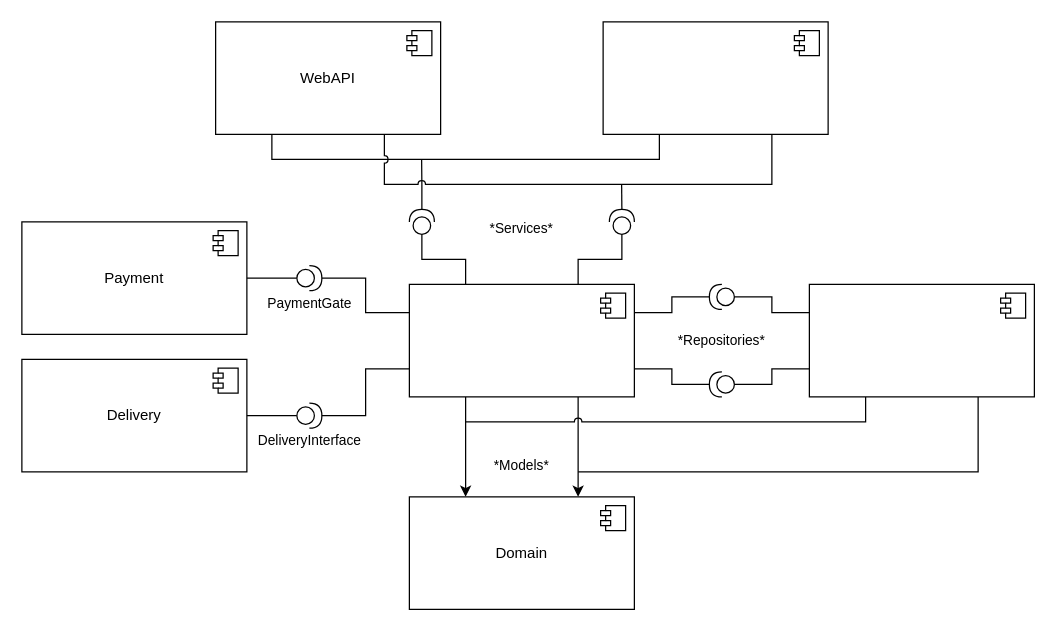
Some shapes in this 1056 by 631 pixel diagram are drawn without their labels. The shapes that lost their labels are listed below. From the top down, each one's centre as x and y in pixels, then its label:
At point 715,77: "GUI".
At point 521,340: "Service".
At point 921,340: "Repository".
